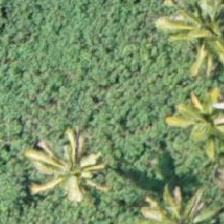coconut_tree: (27, 131, 117, 221), (163, 0, 223, 67)
